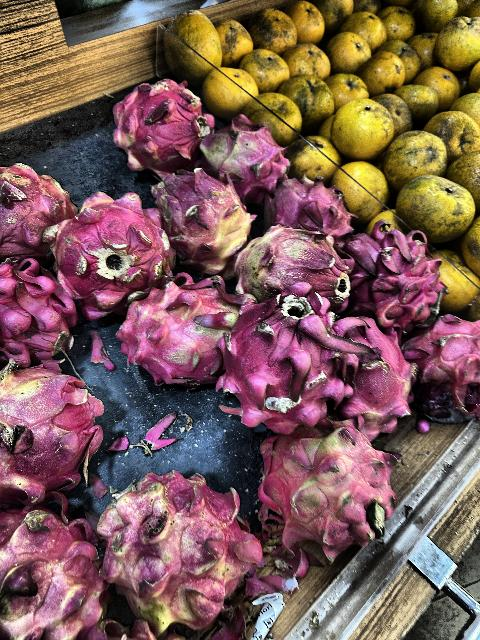buah-naga-belum-matang: (98, 476, 264, 636), (264, 426, 398, 546), (0, 358, 108, 504), (0, 508, 106, 640), (236, 228, 356, 308), (150, 173, 253, 265), (200, 115, 289, 191)
buah-naga-matang: (210, 281, 360, 425), (42, 191, 172, 305), (121, 276, 229, 382), (338, 315, 416, 437), (108, 72, 206, 166), (344, 228, 436, 320), (0, 258, 74, 366), (408, 311, 480, 409), (267, 178, 353, 240)
